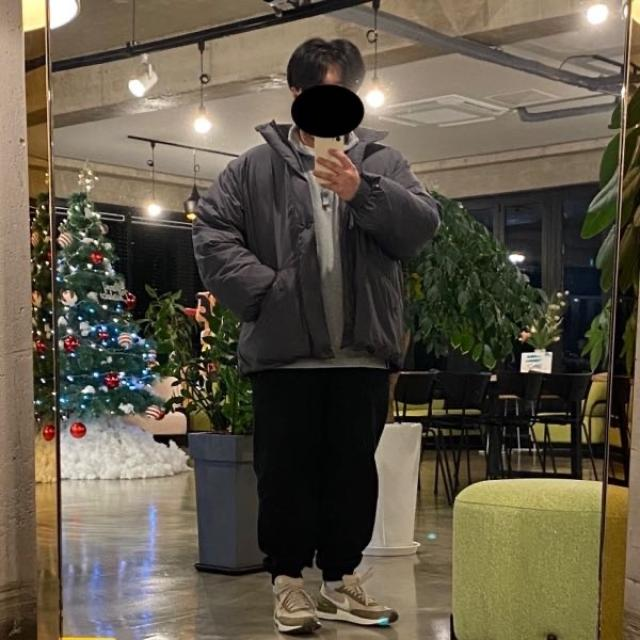padding: (189, 121, 435, 362)
trainingpants: (250, 358, 391, 578)
